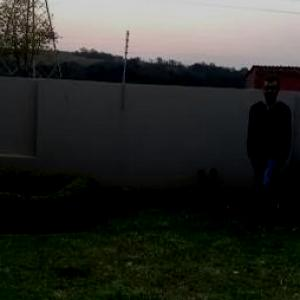follow: (234, 80, 290, 209)
